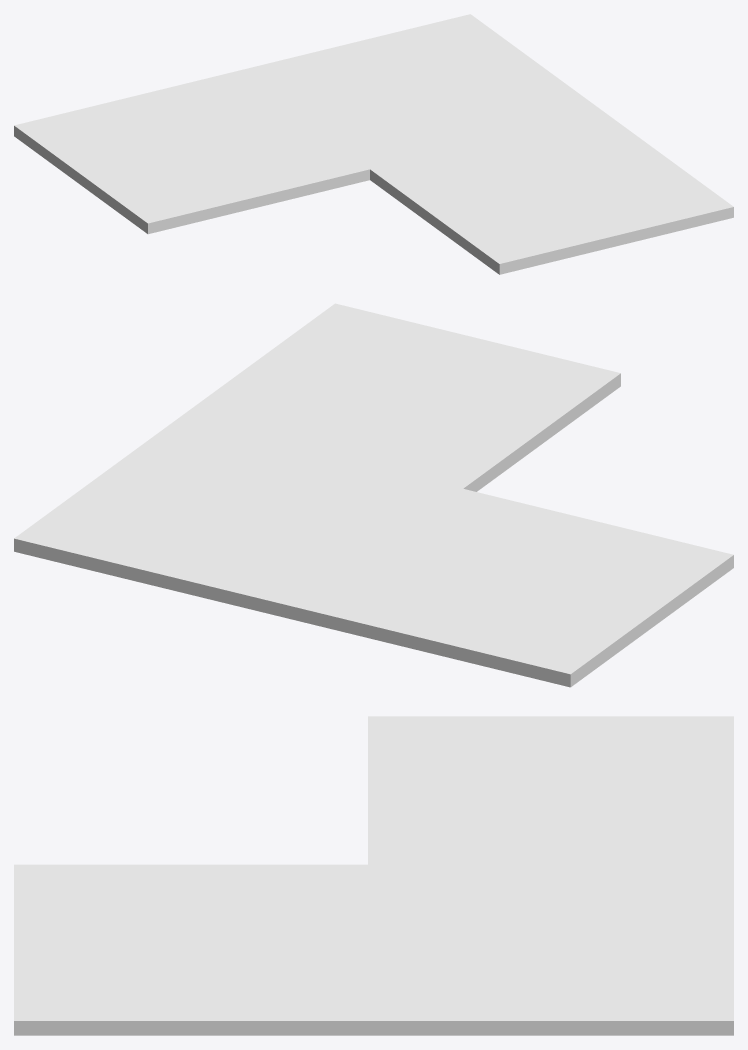
The model's file is shelf_bottom_standard_sarok_90.glb.
3 renders of one model, top to bottom at view 1: azimuth 30°, elevation 25°; view 2: azimuth 150°, elevation 25°; view 3: azimuth 270°, elevation 25°, orthographic. The views are drawn at different scales.
Visible parts, largest first — view 1: shelf_bottom_standard_sarok_90; view 2: shelf_bottom_standard_sarok_90; view 3: shelf_bottom_standard_sarok_90.
Part boxes in pixels (<box>): shelf_bottom_standard_sarok_90: <box>14,14,733,274</box>; shelf_bottom_standard_sarok_90: <box>14,303,733,687</box>; shelf_bottom_standard_sarok_90: <box>14,716,733,1035</box>.
Bounding box in the file's own units: 0.8419 × 0.019 × 0.8414.
1 material, 1 textured.
